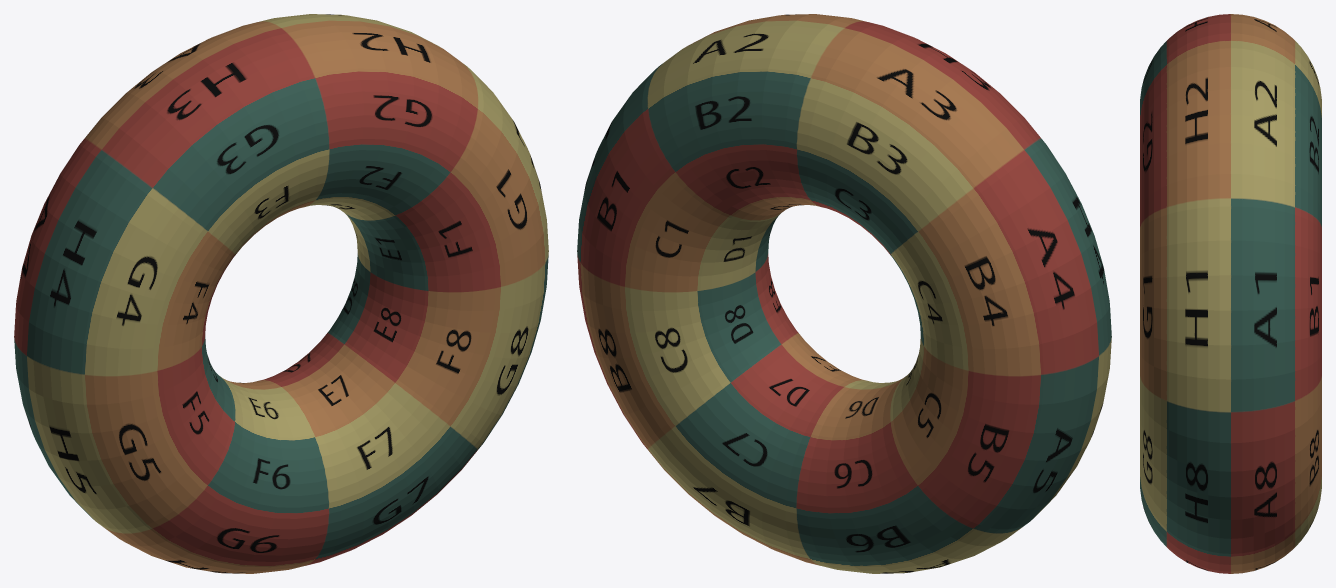
Rendered from texture_torus_R7_r19.glb.
3 renders of one model, left to right at view 1: azimuth 30°, elevation 25°; view 2: azimuth 150°, elevation 25°; view 3: azimuth 270°, elevation 25°, orthographic. The views are drawn at different scales.
Parts seen in each view (by area): view 1: world; view 2: world; view 3: world.
Part boxes in pixels (x1,y1,x2,y2): world: (14, 14, 548, 573); world: (577, 14, 1111, 573); world: (1140, 14, 1321, 573).
Bounding box in the file's own units: 21.73 × 21.69 × 7.05.
Materials: 1 (1 with a texture image).
